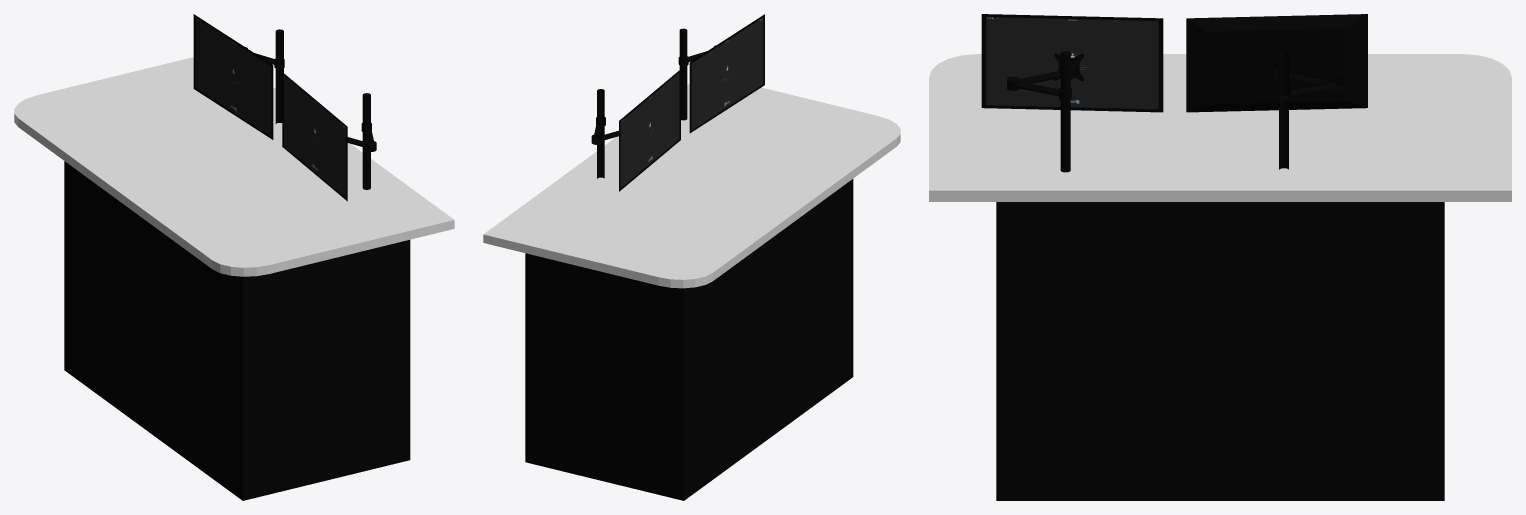
Rendered from presenters_workstation.glb.
3 views of the same model, side by side, from view 1: azimuth 30°, elevation 25°; view 2: azimuth 150°, elevation 25°; view 3: azimuth 270°, elevation 25° (orthographic). The views are drawn at different scales.
Visible parts, largest first — view 1: Cube.001; view 2: Cube.001; view 3: Cube.001.
Part boxes in pixels (<box>): Cube.001: <box>14,14,454,500</box>; Cube.001: <box>483,14,900,500</box>; Cube.001: <box>929,14,1511,500</box>.
Bounding box in the file's own units: 0.9564 × 1.45 × 1.72.
12 materials, 2 textured.
